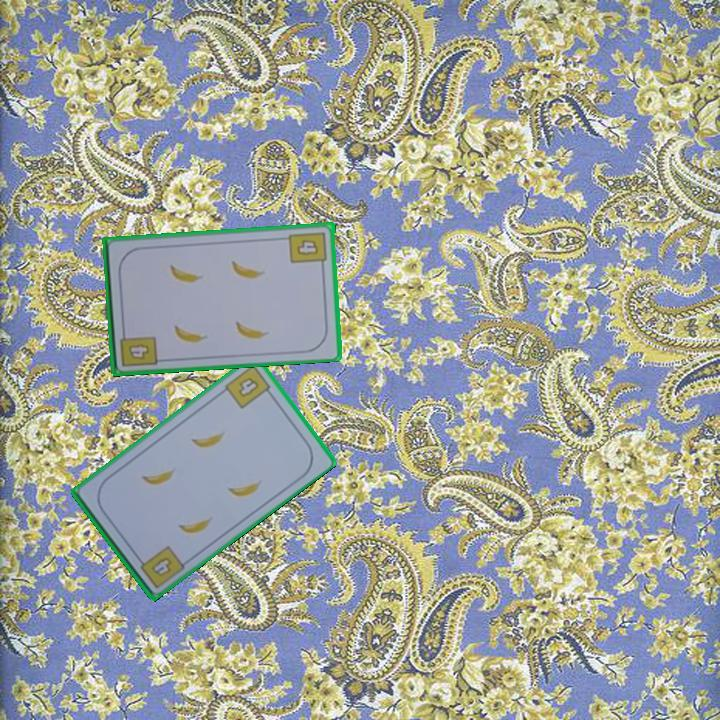4b: (221, 361, 276, 412), (133, 542, 188, 591), (286, 228, 330, 271), (125, 340, 153, 362)
